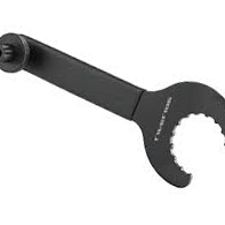Wrench: (1, 26, 225, 187)
